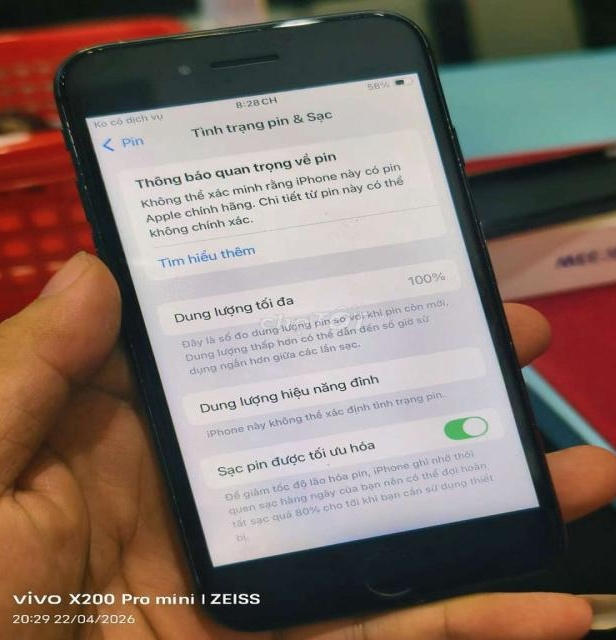scratch: (437, 103, 474, 181), (59, 115, 93, 197), (74, 40, 134, 56)
